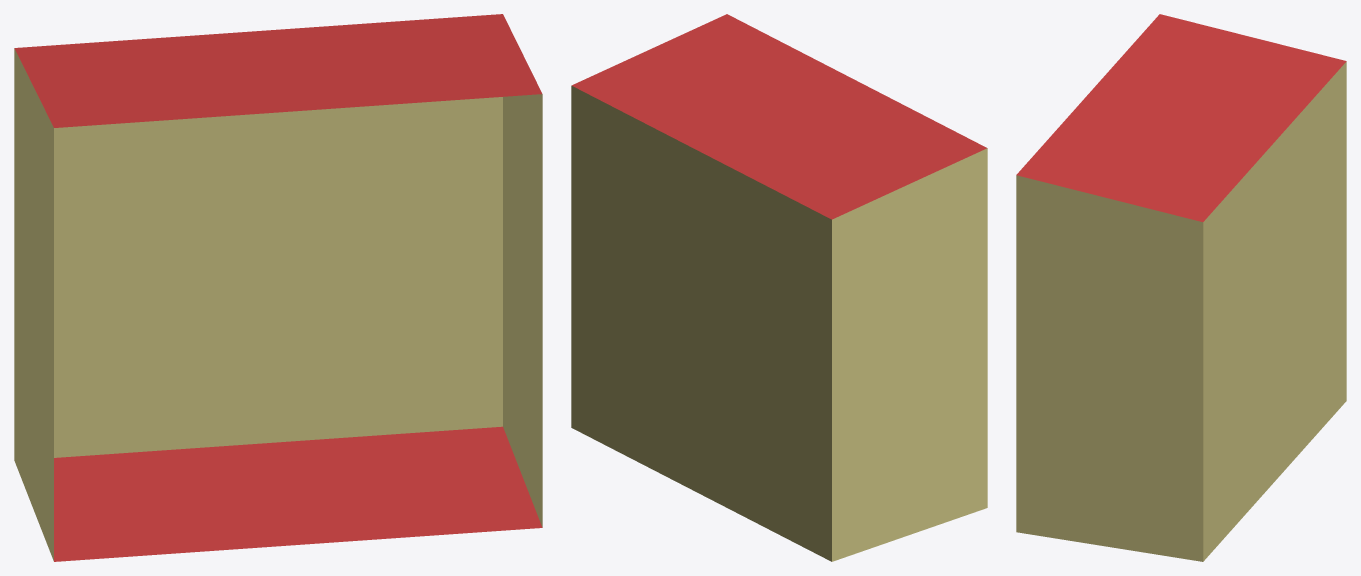
3 renders of one model, left to right at view 1: azimuth 30°, elevation 25°; view 2: azimuth 150°, elevation 25°; view 3: azimuth 270°, elevation 25°, orthographic. The views are drawn at different scales.
Bounding box in the file's own units: 6.54 × 4.79 × 5.7.
